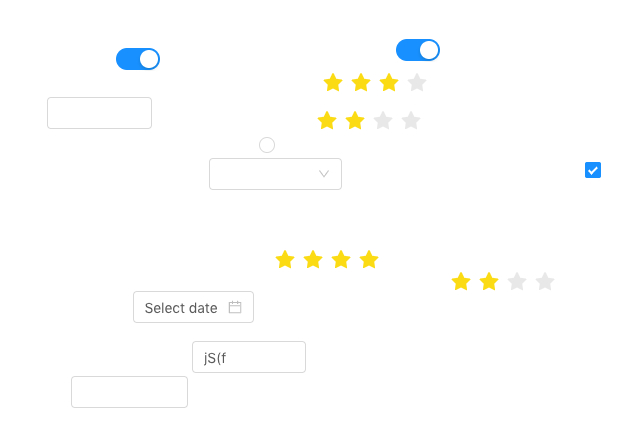Checkbox: (585, 159, 601, 180)
DatePicker: (133, 291, 254, 323)
Input: (71, 376, 188, 408), (192, 341, 306, 373), (47, 97, 152, 129)
Radio: (259, 134, 275, 154)
Rate: (451, 265, 571, 297), (323, 66, 443, 98), (317, 104, 437, 136), (275, 243, 395, 275)
Select: (209, 158, 342, 190)
Switch: (116, 47, 160, 71), (396, 38, 440, 62)
